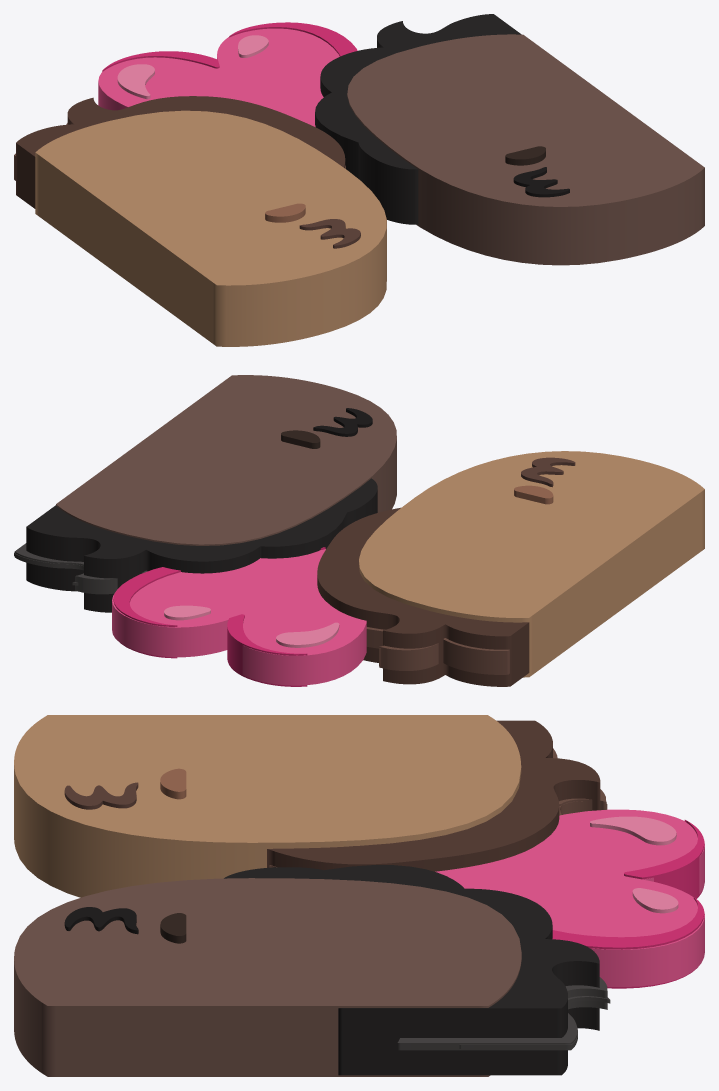
File: emoji_u1f9d1_1f3fd_200d_2764_200d_1f48b_200d_1f9d1_1f3ff.glb
3 views of the same model, one above another, from view 1: azimuth 30°, elevation 25°; view 2: azimuth 150°, elevation 25°; view 3: azimuth 270°, elevation 25° (orthographic). The views are drawn at different scales.
Parts seen in each view (by area): view 1: emoji_u1f9d1_1f3fd_200d_2764_200d_1f48b_200d_1f9d1_1f3ff; view 2: emoji_u1f9d1_1f3fd_200d_2764_200d_1f48b_200d_1f9d1_1f3ff; view 3: emoji_u1f9d1_1f3fd_200d_2764_200d_1f48b_200d_1f9d1_1f3ff.
Boxes of the visible parts, box(x1,y1,x2,y2) form: emoji_u1f9d1_1f3fd_200d_2764_200d_1f48b_200d_1f9d1_1f3ff: box(14, 14, 704, 346); emoji_u1f9d1_1f3fd_200d_2764_200d_1f48b_200d_1f9d1_1f3ff: box(14, 375, 704, 686); emoji_u1f9d1_1f3fd_200d_2764_200d_1f48b_200d_1f9d1_1f3ff: box(14, 715, 704, 1076).
Bounding box in the file's own units: 0.0339 × 0.0048 × 0.0336.
